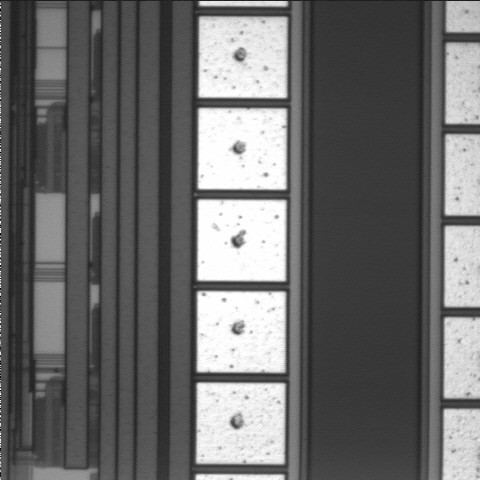pad: (198, 108, 287, 190), (197, 291, 286, 373), (197, 200, 286, 281), (196, 383, 285, 464), (199, 17, 287, 98)
